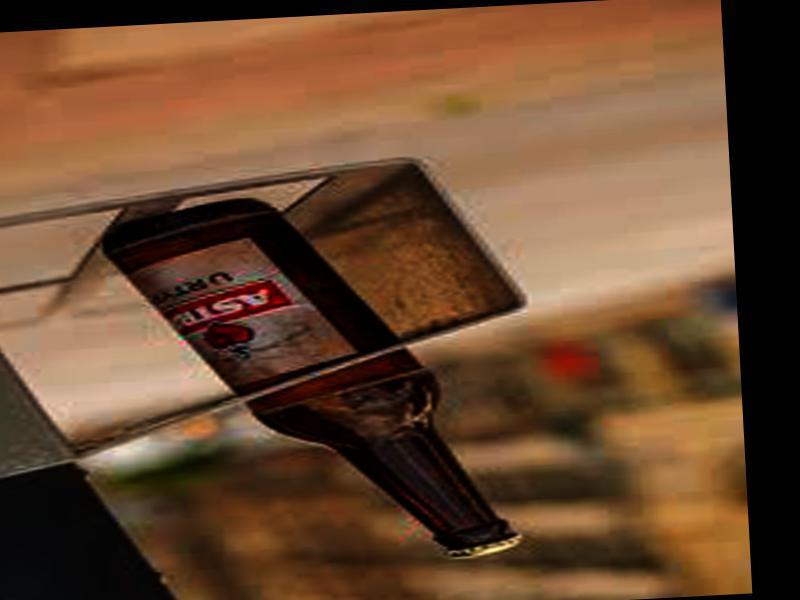Beer: (96, 184, 526, 578)
